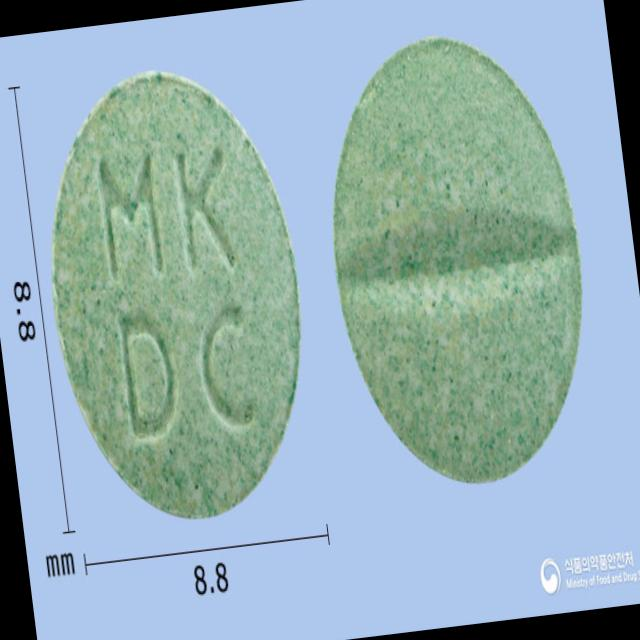Bydoxy: (23, 48, 330, 542)
